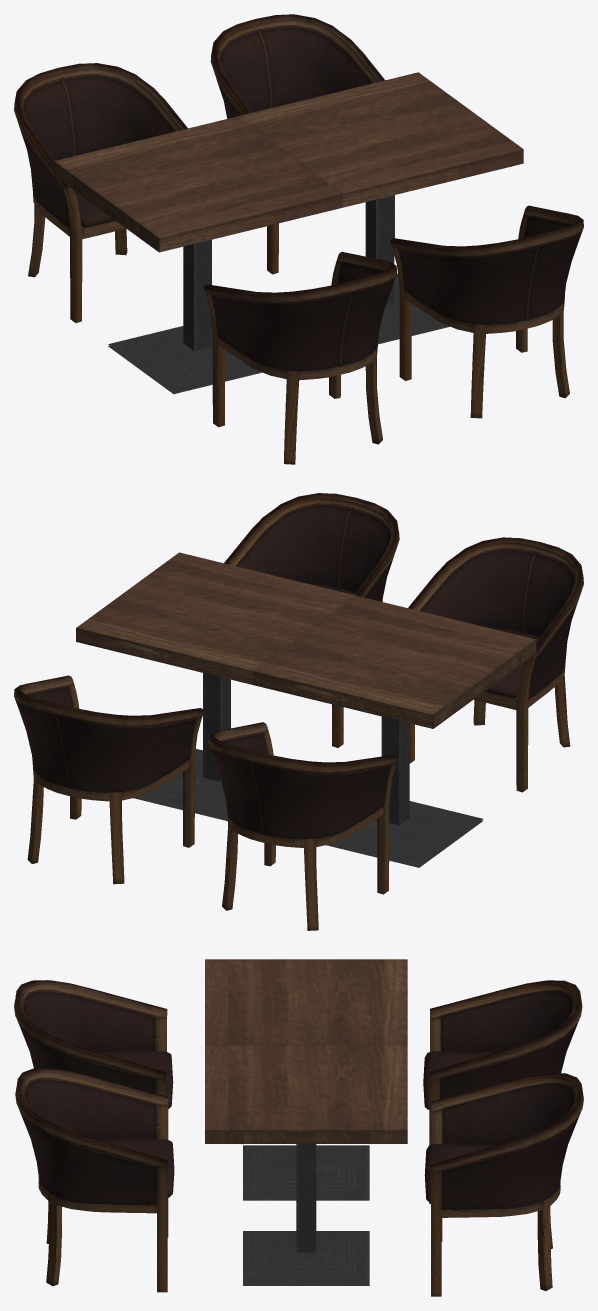
Rendered from kt_tables_02.fbx.
3 views of the same model, one above another, from view 1: azimuth 30°, elevation 25°; view 2: azimuth 150°, elevation 25°; view 3: azimuth 270°, elevation 25° (orthographic). The views are drawn at different scales.
Parts seen in each view (by area): view 1: kt_tables_02_LOD0; view 2: kt_tables_02_LOD0; view 3: kt_tables_02_LOD0.
Part boxes in pixels (x1,y1,x2,y2): kt_tables_02_LOD0: (14,14,583,464); kt_tables_02_LOD0: (14,493,583,930); kt_tables_02_LOD0: (14,959,583,1296).
Size of what is drawn, in the model's own units: 1.6 by 0.7705 by 2.25.
Materials: 1 (1 with a texture image).
